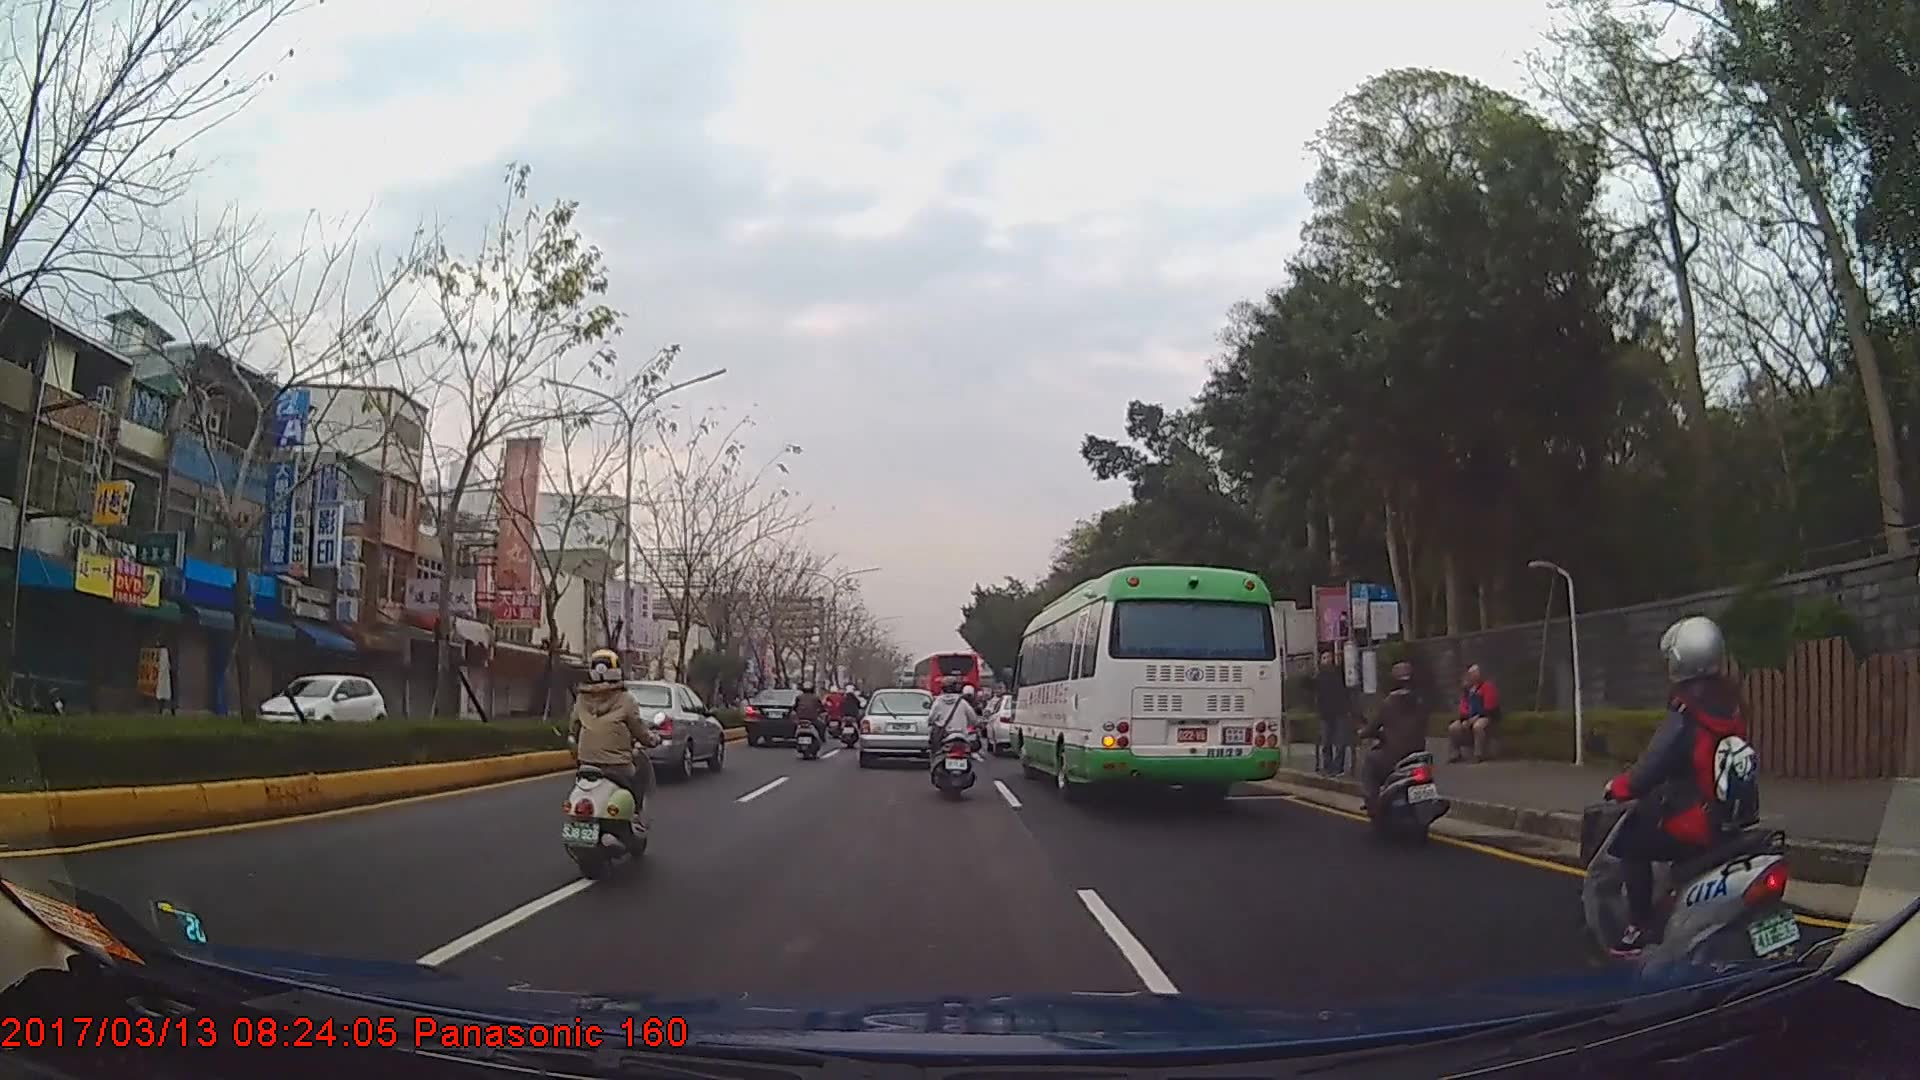pedestrian: (1446, 662, 1502, 765), (1308, 649, 1350, 777)
rider: (1578, 611, 1796, 991), (564, 642, 652, 888), (1361, 657, 1453, 848), (928, 675, 982, 798), (795, 679, 830, 760), (840, 685, 864, 749), (826, 685, 847, 740)
vehicle: (1007, 564, 1282, 799), (566, 679, 723, 780), (251, 666, 391, 738), (858, 687, 944, 765), (744, 686, 827, 749), (914, 648, 984, 718)
